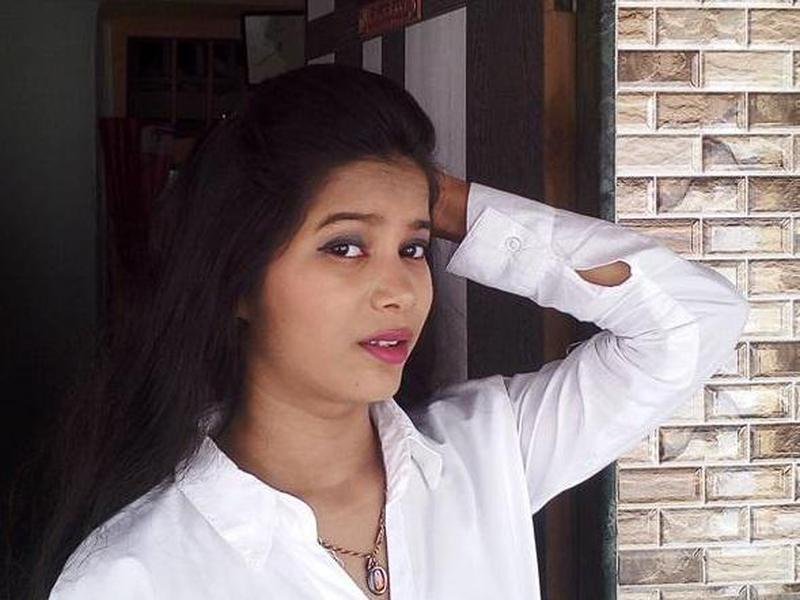without_mask: (255, 159, 436, 410)
